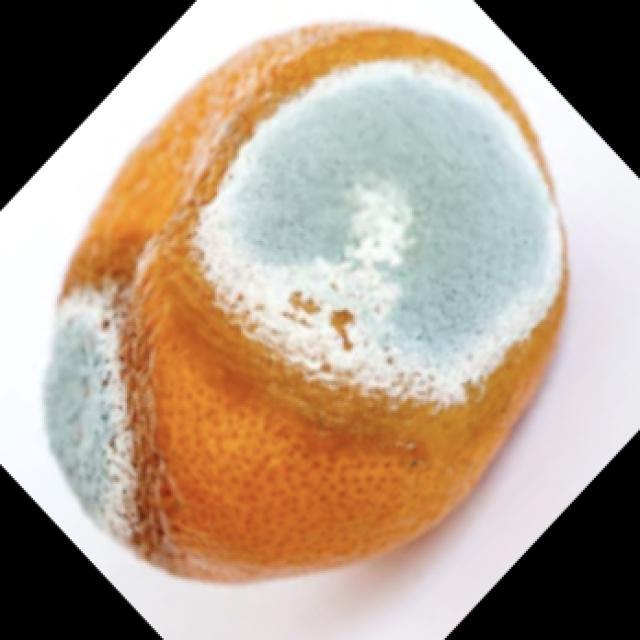sangat-busuk: (45, 24, 568, 580), (65, 26, 536, 297), (145, 281, 565, 570)
